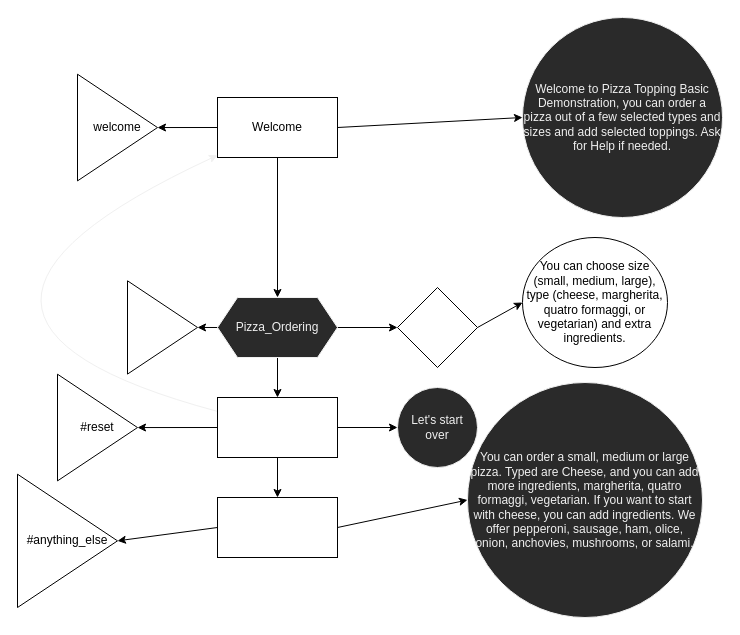
Image size: 740x635. Some labels were removed from this diagram. The shapes that lost their labels are listed below. From the top down, each one's centre as x and y in pixels, then its label:
[162,327]: #order
[437,327]: #help
[277,427]: Reset
[277,527]: Fallback
